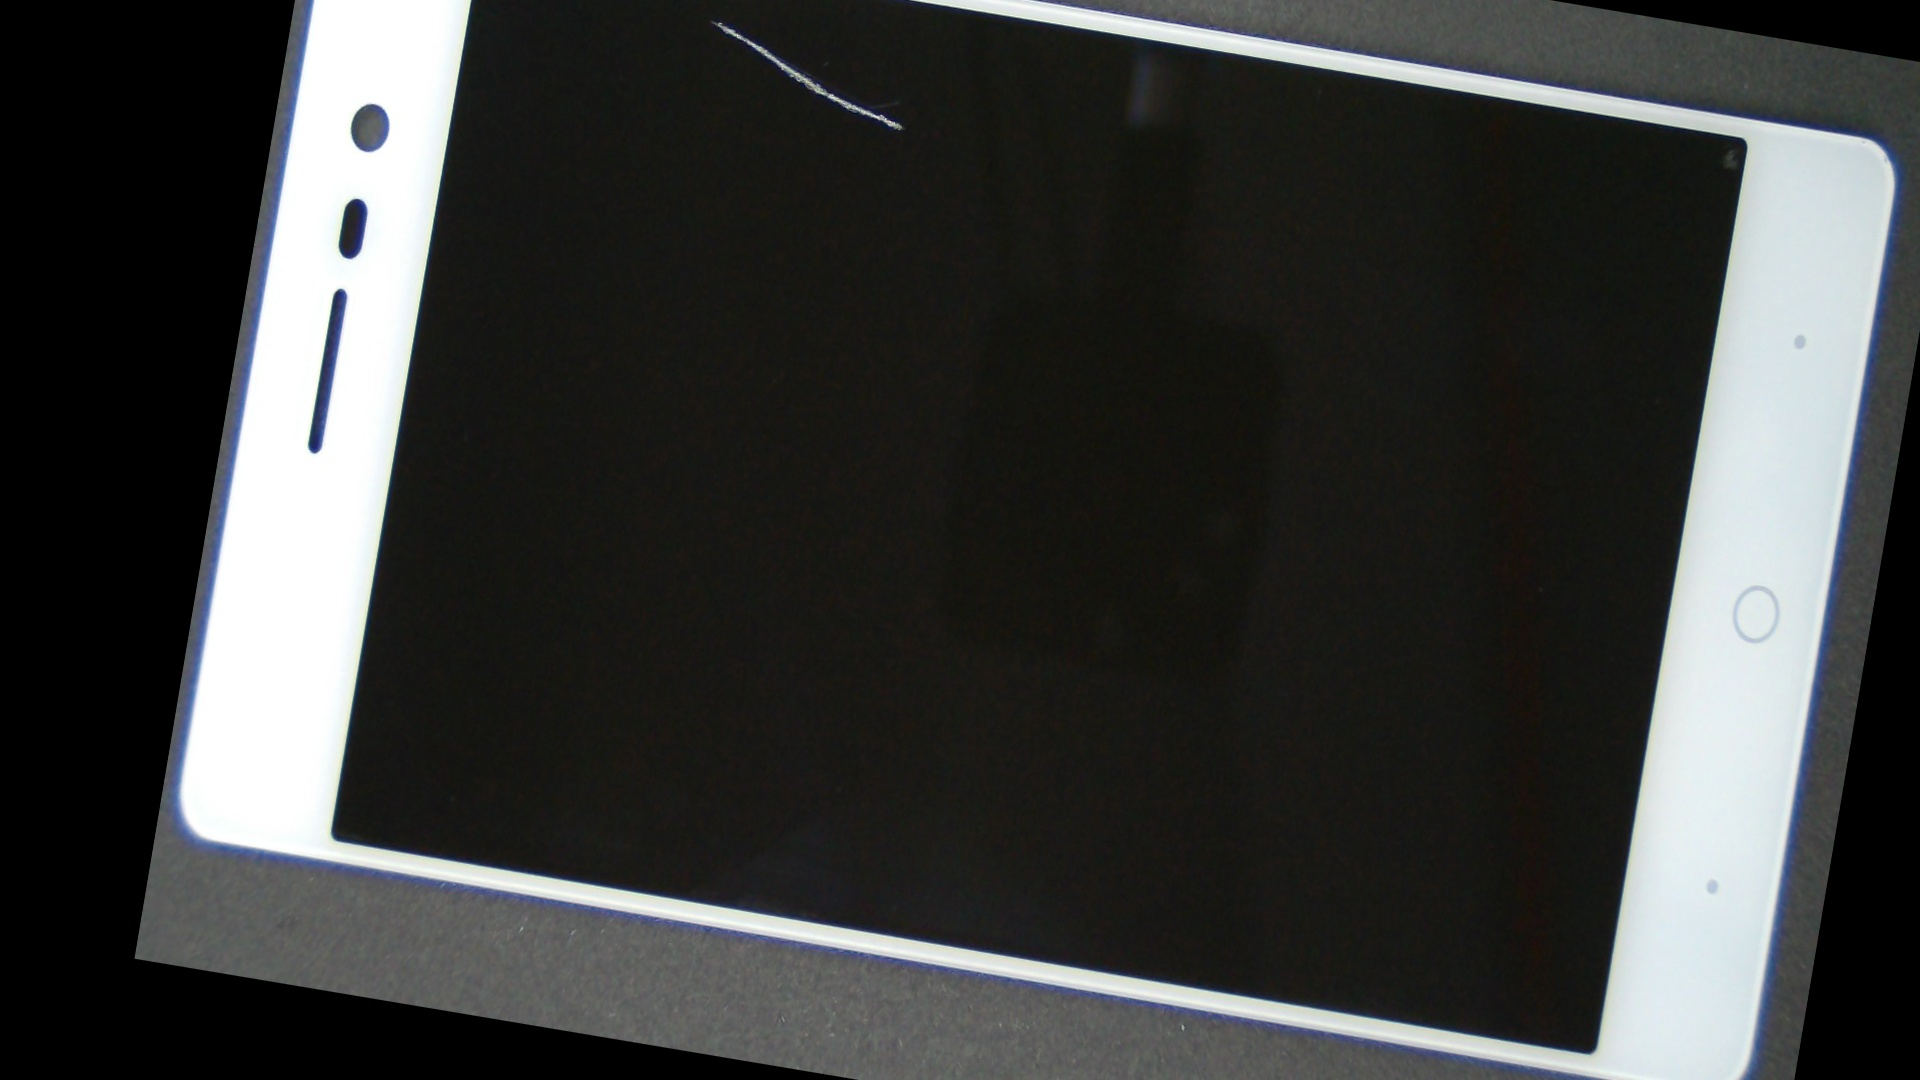oil: (493, 0, 928, 135)
